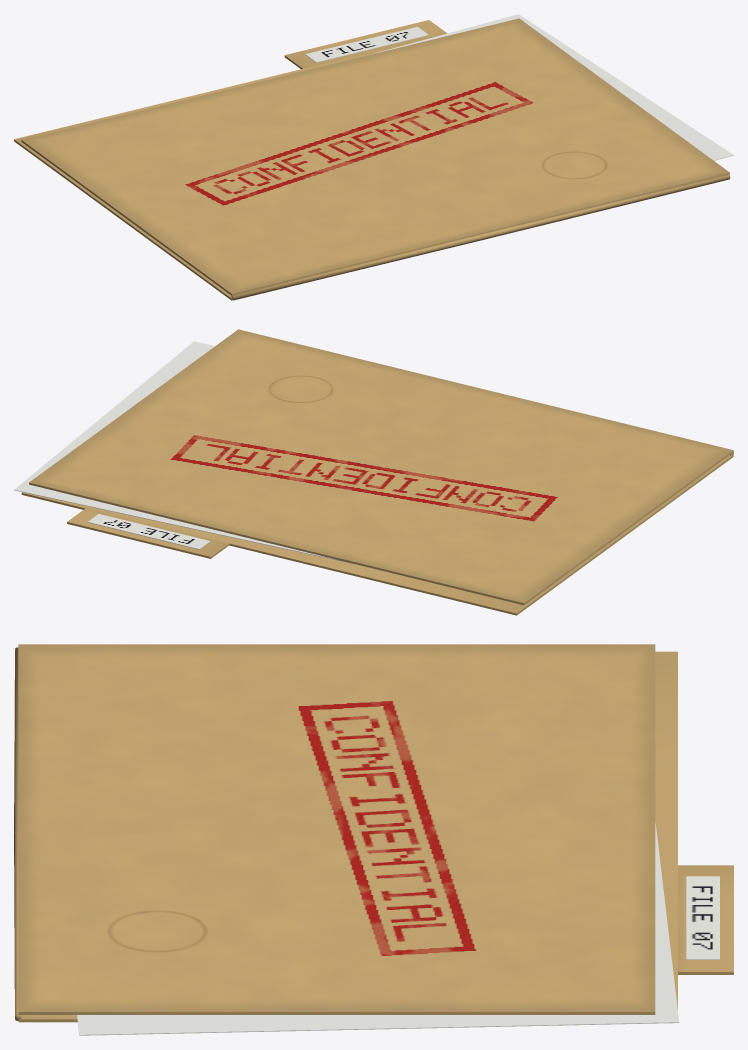
The model's file is folder.glb.
3 renders of one model, top to bottom at view 1: azimuth 30°, elevation 25°; view 2: azimuth 150°, elevation 25°; view 3: azimuth 270°, elevation 25°, orthographic. The views are drawn at different scales.
Parts seen in each view (by area): view 1: Cover, Folder; view 2: Cover, Folder; view 3: Cover, Folder.
Boxes of the visible parts, x1=… form: Cover: x1=21, y1=18, x2=729, y2=295; Folder: x1=14, y1=14, x2=733, y2=300; Cover: x1=29, y1=329, x2=733, y2=605; Folder: x1=14, y1=341, x2=733, y2=615; Cover: x1=18, y1=644, x2=655, y2=1014; Folder: x1=14, y1=647, x2=733, y2=1035.
Bounding box in the file's own units: 0.3252 × 0.0041 × 0.2565.
3 materials, 3 textured.
